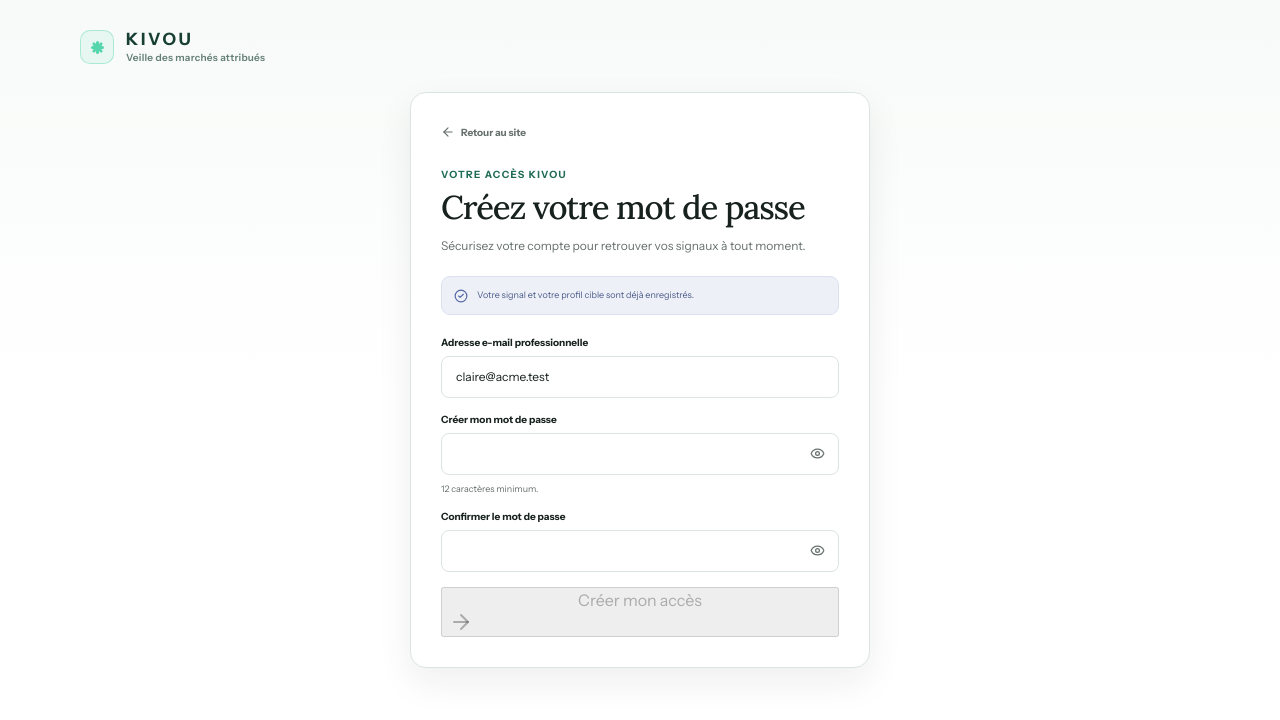
prefills the invitation email, claims the account, then returns to the signal
expect the field labelled "Adresse e-mail professionnelle" holds "claire@acme.test": met, box x1=441 y1=356 x2=839 y2=398
In the password field labelled "Créer mon mot de passe": (640, 454) x1=441 y1=433 x2=839 y2=475, type "une-phrase-secrete"
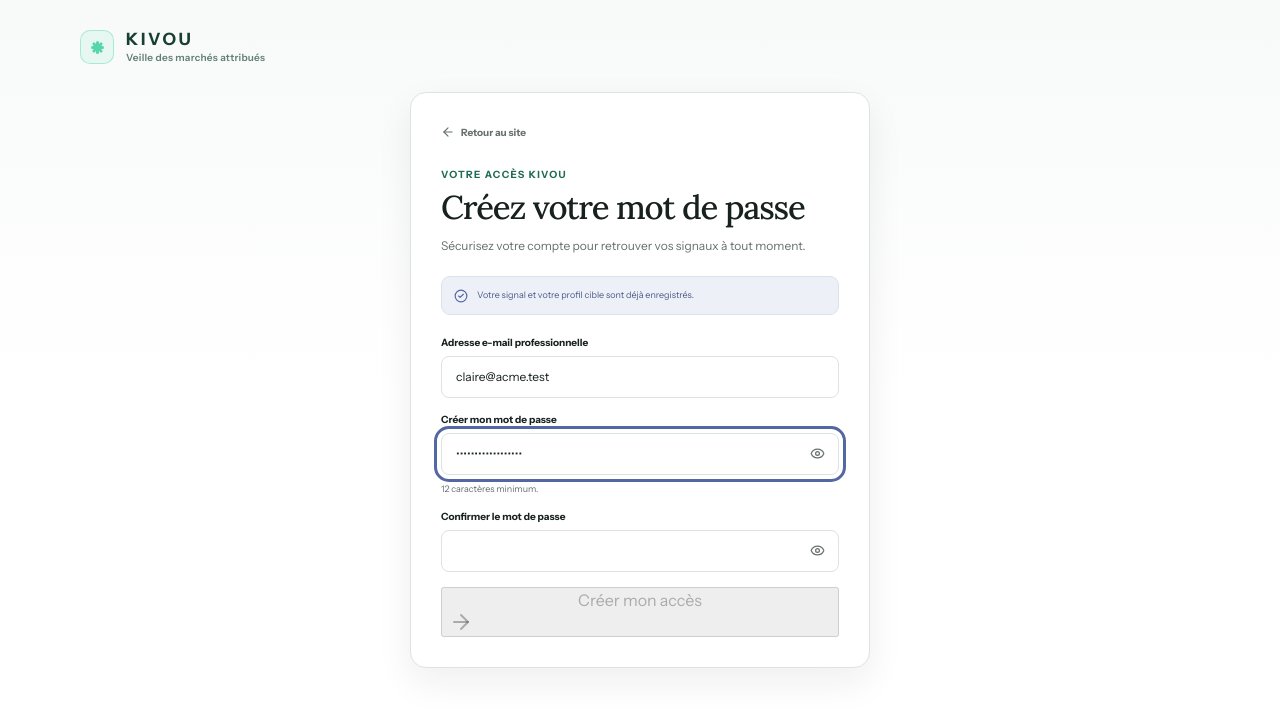
In the password field labelled "Confirmer le mot de passe": (640, 551) x1=441 y1=530 x2=839 y2=572, type "une-phrase-secrete"
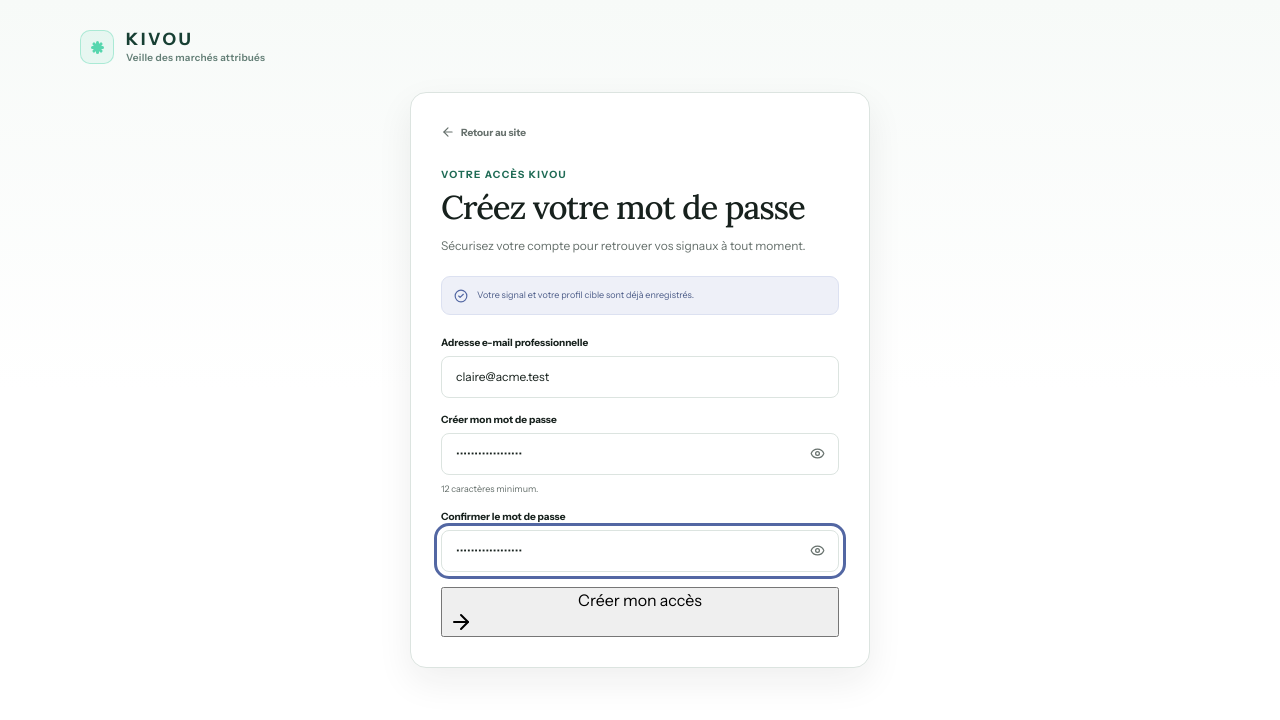
Click the button "Créer mon accès": (640, 612) x1=441 y1=587 x2=839 y2=637
(page scrolled)
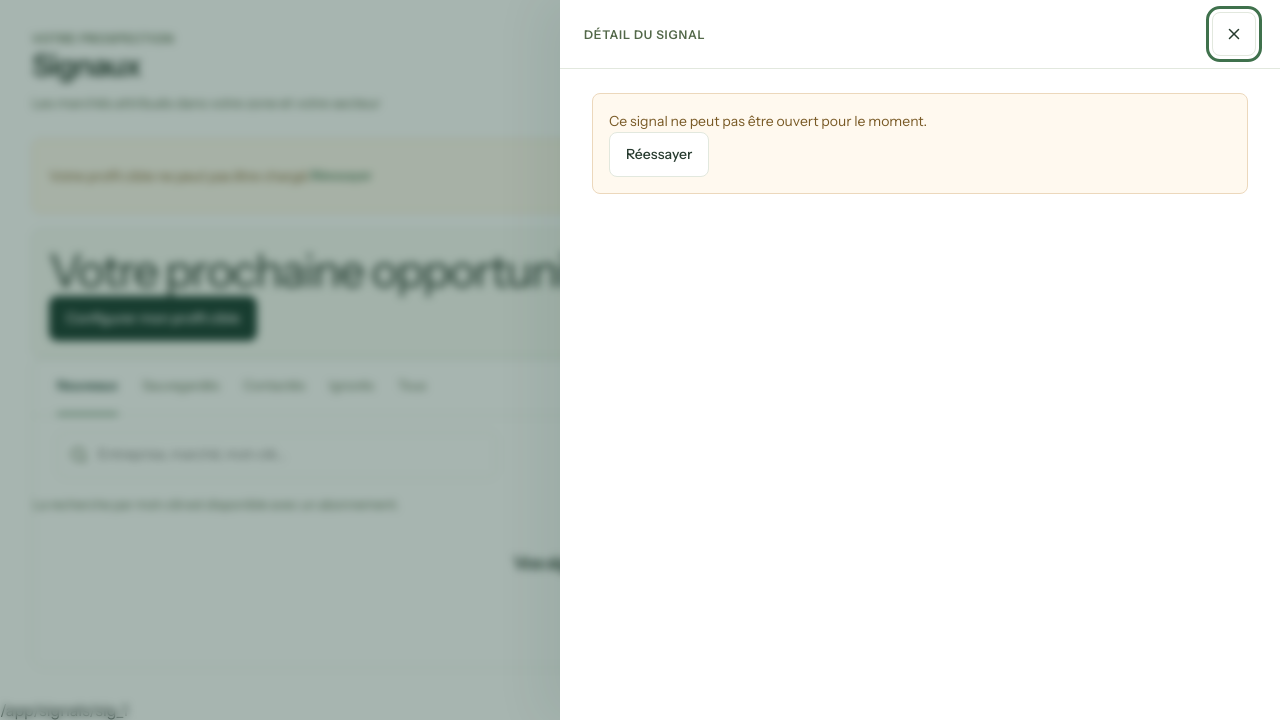
expect the text with test id "location" reads "/app/signals/sig_1": met, box x1=0 y1=700 x2=128 y2=719
